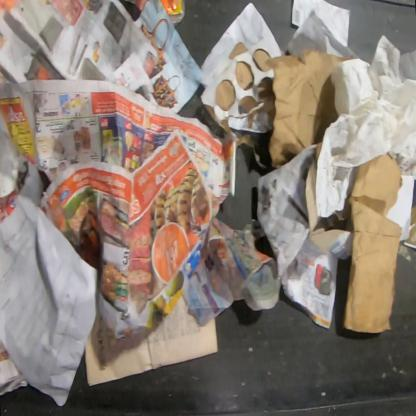cardboard: (342, 153, 403, 335), (265, 49, 353, 169), (304, 141, 353, 261), (203, 104, 234, 134), (216, 79, 236, 111), (235, 62, 254, 90), (253, 48, 272, 71), (258, 77, 274, 102), (238, 95, 258, 114), (227, 42, 248, 60)
soft_plastic: (160, 0, 186, 27)
